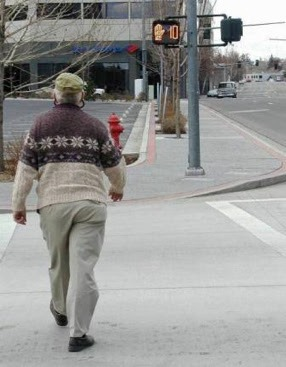pedestrian_stop: (151, 21, 167, 42)
